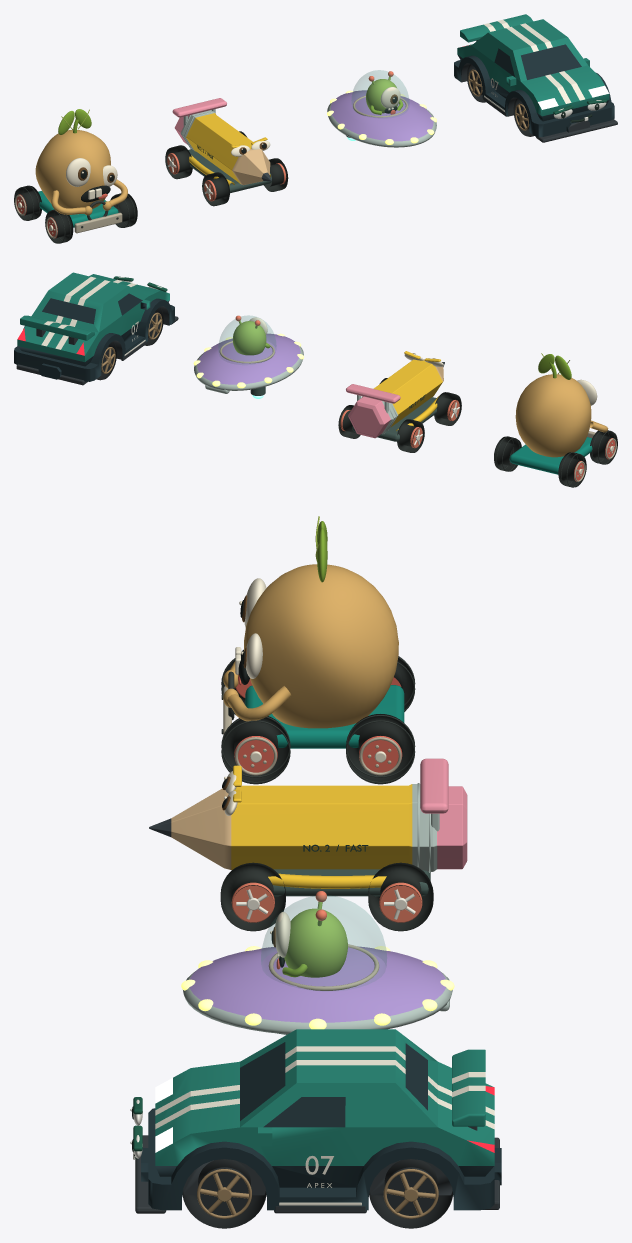
Rendered from fleet-final.glb.
The picture shows the model from 3 angles, top to bottom: view 1: azimuth 30°, elevation 25°; view 2: azimuth 150°, elevation 25°; view 3: azimuth 270°, elevation 25°; orthographic projection. The views are drawn at different scales.
Visible parts, largest first — view 1: Body.005, Saucer_continuous_hull.007, Sculpted_Potato_Skin.008, Pencil_continuous_body.007, Canopy.007, Livery_Twin_Stripes.005, Rear_Wing.005, Undertray.007, Poster_rounded_tire.030, Rounded_rubber_tire.060, Rounded_rubber_tire.062, Poster_rounded_tire.028 (+9 smaller); view 2: Body.005, Sculpted_Potato_Skin.008, Saucer_continuous_hull.007, Pencil_continuous_body.007, Canopy.007, Potato_chassis.003, Alien_pilot.007, Rear_Wing.005, Livery_Twin_Stripes.005, Poster_rounded_tire.031, Poster_rounded_tire.030, Poster_rounded_tire.028 (+5 smaller); view 3: Body.005, Pencil_continuous_body.007, Sculpted_Potato_Skin.008, Saucer_continuous_hull.007, Canopy.007, Alien_pilot.007, Livery_Twin_Stripes.005, Potato_chassis.003, Rear_Wing.005, Poster_rounded_tire.031, Rounded_rubber_tire.061, Rounded_rubber_tire.063 (+13 smaller).
Part boxes in pixels (<box>): Body.005: <box>454,19,614,137</box>; Saucer_continuous_hull.007: <box>327,90,436,147</box>; Sculpted_Potato_Skin.008: <box>35,130,110,208</box>; Pencil_continuous_body.007: <box>174,110,271,185</box>; Canopy.007: <box>351,70,409,117</box>; Livery_Twin_Stripes.005: <box>484,19,584,103</box>; Rear_Wing.005: <box>460,14,533,42</box>; Undertray.007: <box>188,149,271,193</box>; Poster_rounded_tire.030: <box>14,185,41,220</box>; Rounded_rubber_tire.060: <box>202,172,229,206</box>; Rounded_rubber_tire.062: <box>165,145,192,179</box>; Poster_rounded_tire.028: <box>45,209,73,243</box>; Body.005: <box>14,272,174,381</box>; Sculpted_Potato_Skin.008: <box>515,374,591,457</box>; Saucer_continuous_hull.007: <box>194,333,303,390</box>; Pencil_continuous_body.007: <box>348,359,444,438</box>; Canopy.007: <box>218,315,276,364</box>; Potato_chassis.003: <box>509,437,592,474</box>; Alien_pilot.007: <box>232,321,266,355</box>; Rear_Wing.005: <box>20,315,94,344</box>; Livery_Twin_Stripes.005: <box>41,276,136,349</box>; Poster_rounded_tire.031: <box>494,436,521,471</box>; Poster_rounded_tire.030: <box>558,452,586,487</box>; Poster_rounded_tire.028: <box>590,430,617,464</box>; Body.005: <box>141,1029,501,1210</box>; Pencil_continuous_body.007: <box>149,784,467,871</box>; Sculpted_Potato_Skin.008: <box>244,564,398,728</box>; Saucer_continuous_hull.007: <box>183,946,452,1034</box>; Canopy.007: <box>261,895,386,990</box>; Alien_pilot.007: <box>284,908,347,977</box>; Livery_Twin_Stripes.005: <box>155,1046,494,1129</box>; Potato_chassis.003: <box>245,685,404,748</box>; Rear_Wing.005: <box>452,1049,485,1130</box>; Poster_rounded_tire.031: <box>346,714,413,784</box>; Rounded_rubber_tire.061: <box>220,862,285,931</box>; Rounded_rubber_tire.063: <box>368,862,433,931</box>.
Bounding box in the file's own units: 14.13 × 2.79 × 4.2.
